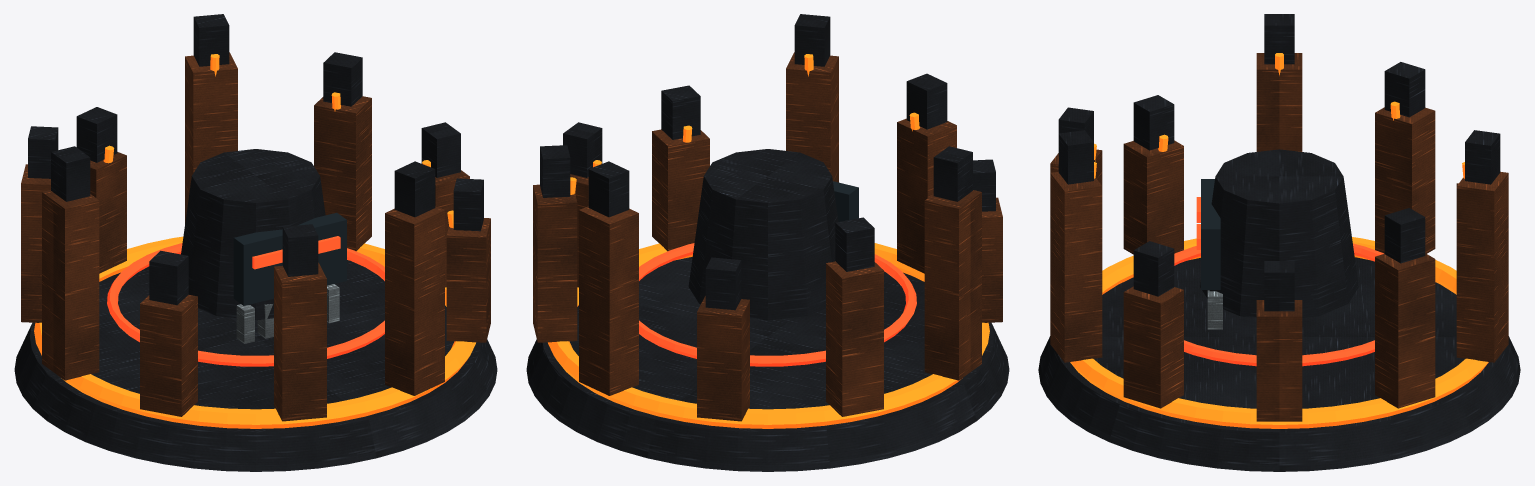
File: archon_gate.glb
3 views of the same model, side by side, from view 1: azimuth 30°, elevation 25°; view 2: azimuth 150°, elevation 25°; view 3: azimuth 270°, elevation 25° (orthographic).
Visible parts, largest first — view 1: Archon gate / reactor crown; view 2: Archon gate / reactor crown; view 3: Archon gate / reactor crown.
Part boxes in pixels (<box>): Archon gate / reactor crown: <box>14,14,497,471</box>; Archon gate / reactor crown: <box>526,14,1009,471</box>; Archon gate / reactor crown: <box>1038,14,1520,471</box>.
Bounding box in the file's own units: 1.58 × 0.94 × 1.58.
Materials: 6 (3 with a texture image).
